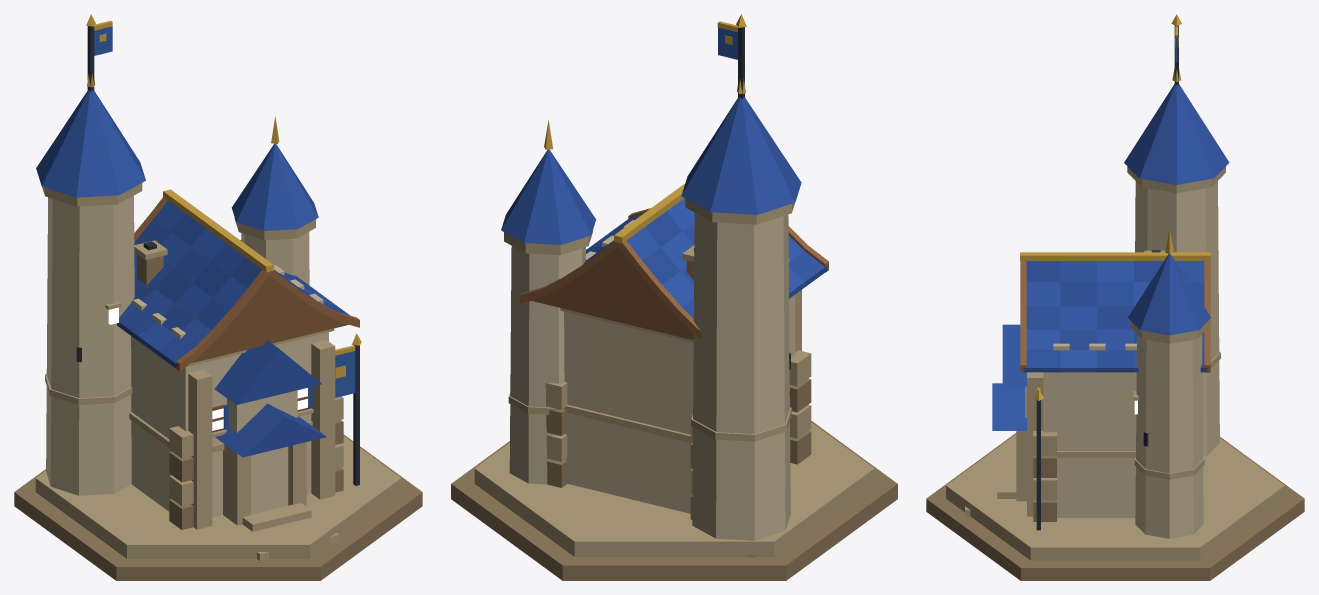
Rendered from castle_t1.glb.
The picture shows the model from 3 angles, left to right: view 1: azimuth 30°, elevation 25°; view 2: azimuth 150°, elevation 25°; view 3: azimuth 270°, elevation 25°; orthographic projection. The views are drawn at different scales.
Visible parts, largest first — view 1: body, glow; view 2: body; view 3: body.
Part boxes in pixels (box(x1,y1,x2,y2)): body: box(14, 14, 422, 580); glow: box(108, 307, 307, 430); body: box(451, 14, 897, 580); body: box(926, 14, 1304, 580).
Size of the model in its own units: 3.64 by 5.57 by 4.2.
